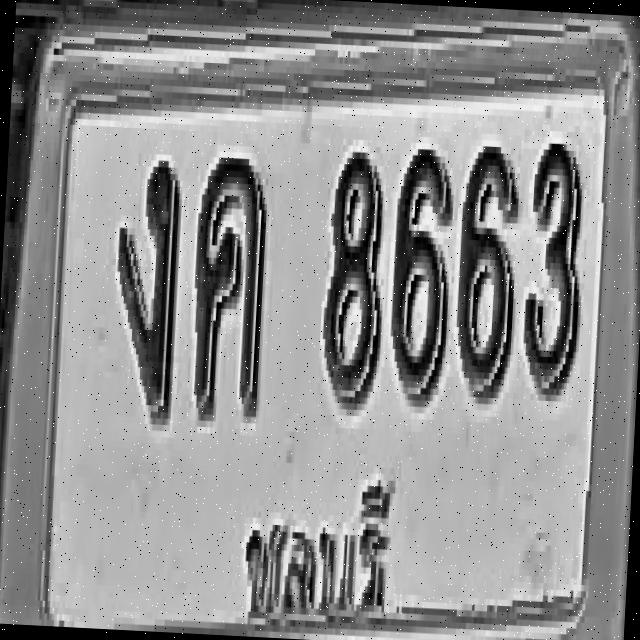13KhorKhwai: (188, 151, 274, 424)
16NgorNgu: (108, 152, 184, 426)
3: (520, 133, 588, 399)
6: (388, 142, 456, 402), (454, 139, 522, 399)
8: (320, 145, 390, 411)
Chonburi: (237, 473, 401, 640)
